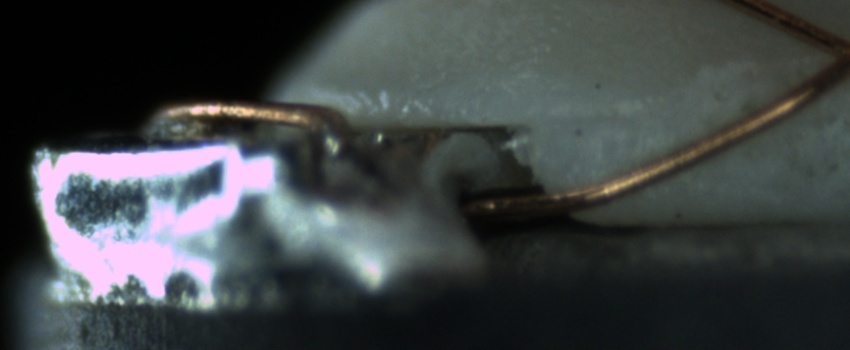CL: (806, 23, 850, 91)
DL: (537, 96, 680, 142)
TE: (129, 97, 354, 154)
